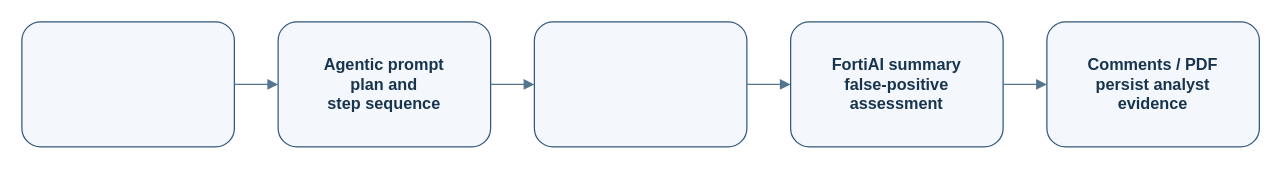
The diagram is 1281 pixels wide and 169 high, and some of its shapes have lost their labels. Each missing label, with the centre of its shape:
Incident IOC + context selected: pixel 127 84
SQL evidence query outputs chained: pixel 640 84
